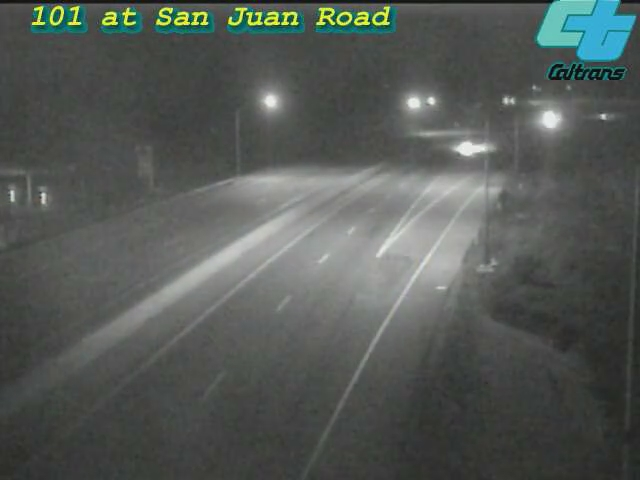vehicle: (581, 91, 631, 141), (522, 96, 572, 146), (444, 120, 494, 170), (486, 76, 536, 126)
